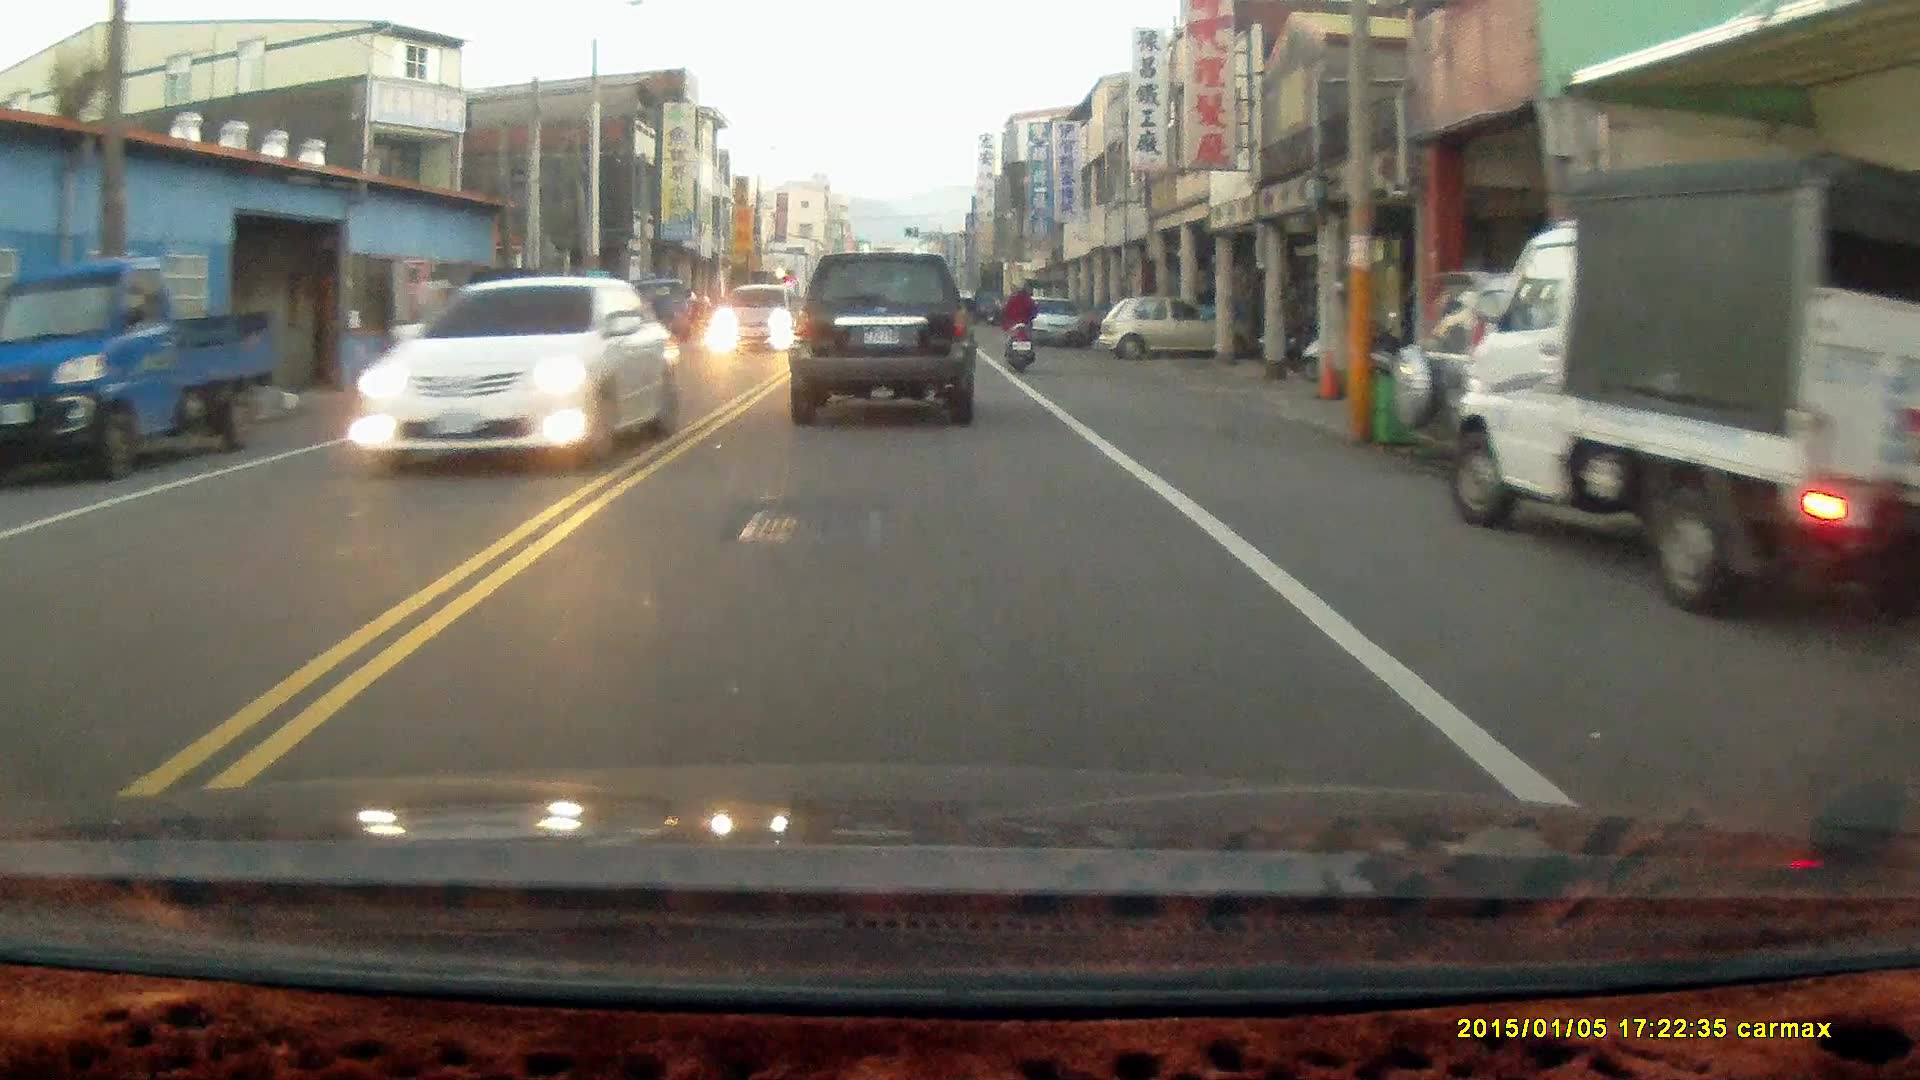rider: (1000, 277, 1037, 372)
vehicle: (1454, 145, 1920, 617), (1402, 272, 1879, 476), (357, 271, 683, 472), (1, 270, 281, 481), (786, 247, 983, 427), (1097, 293, 1224, 358), (705, 281, 802, 356), (1021, 294, 1087, 347)
